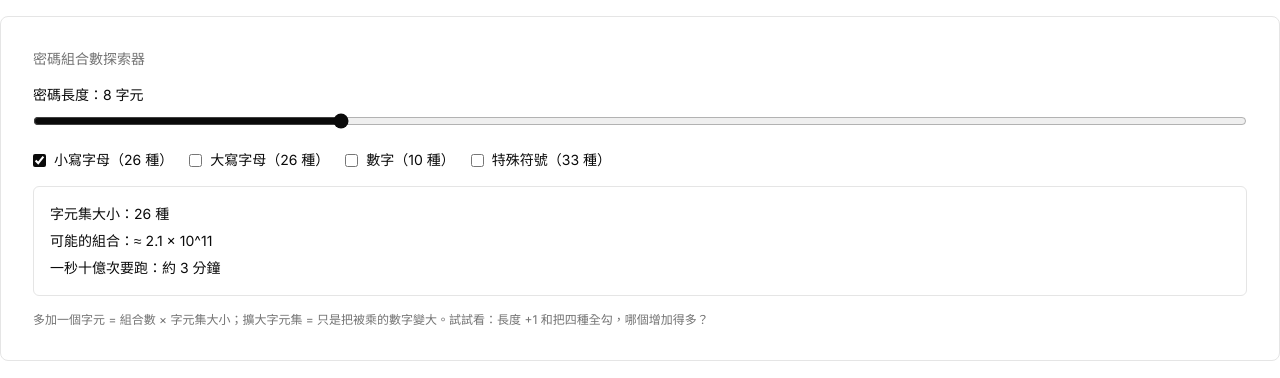
Test case: PasswordEntropyExplorer › sums charset size when all four are checked
The image size is (1280, 378).
Click the checkbox labelled "大寫字母（26 種）".
click(196, 160)  # box [189,154,202,166]
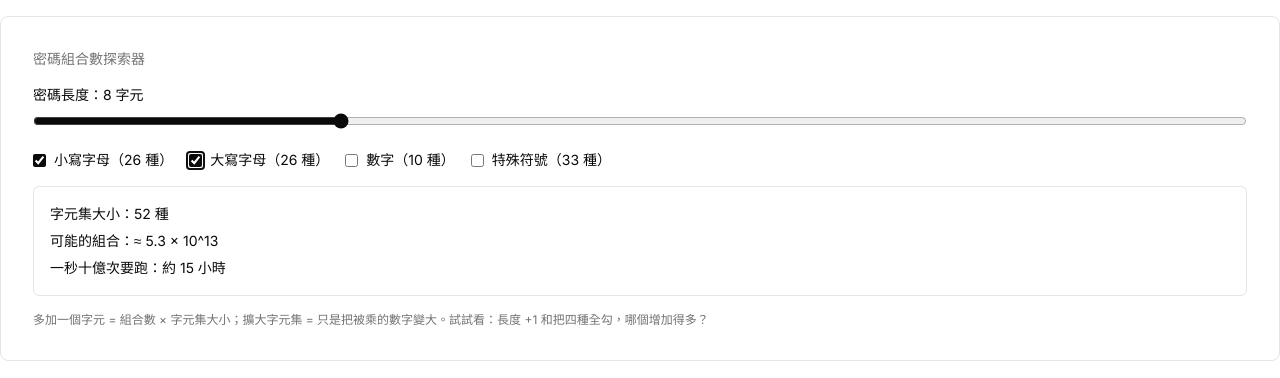
Click the checkbox labelled "數字（10 種）".
click(352, 160)  # box [345,154,358,166]
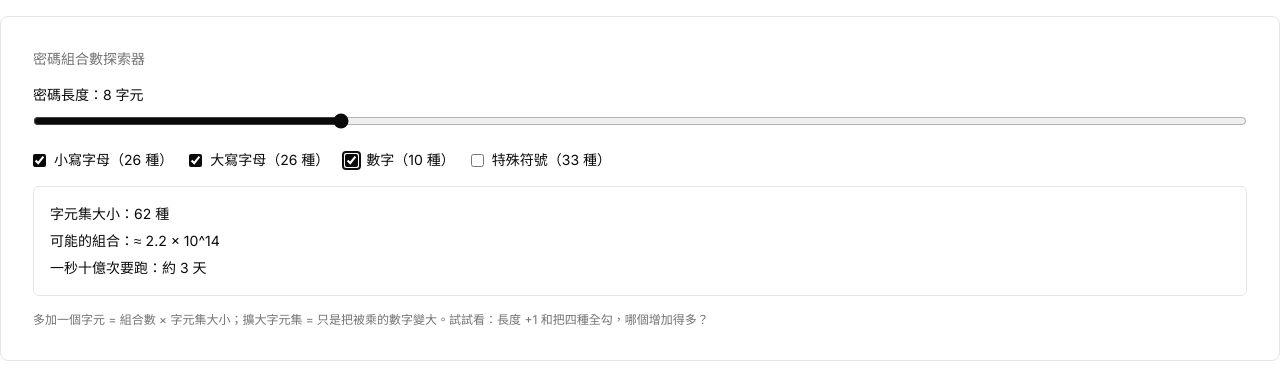
Click the checkbox labelled "特殊符號（33 種）".
click(477, 160)  # box [471,154,484,166]
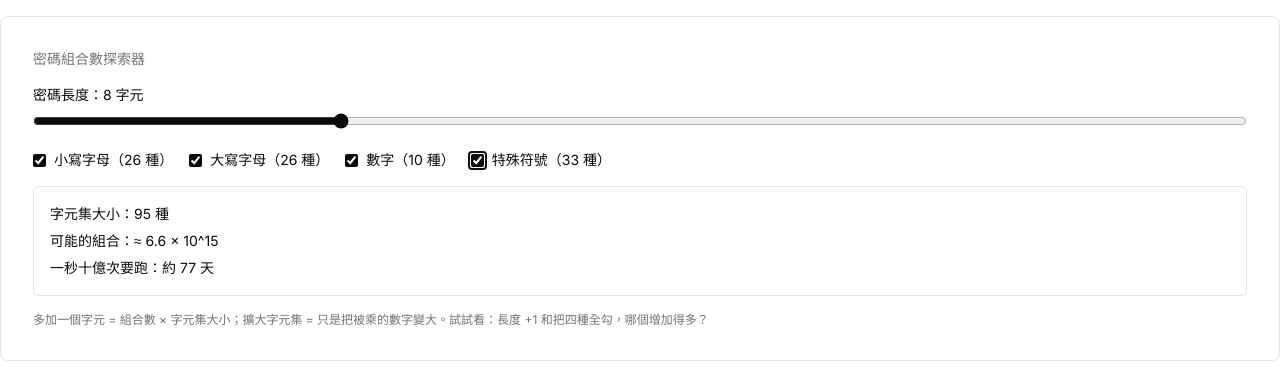
Now the text "字元集大小：95 種" is shown, box [50,205,169,222]
